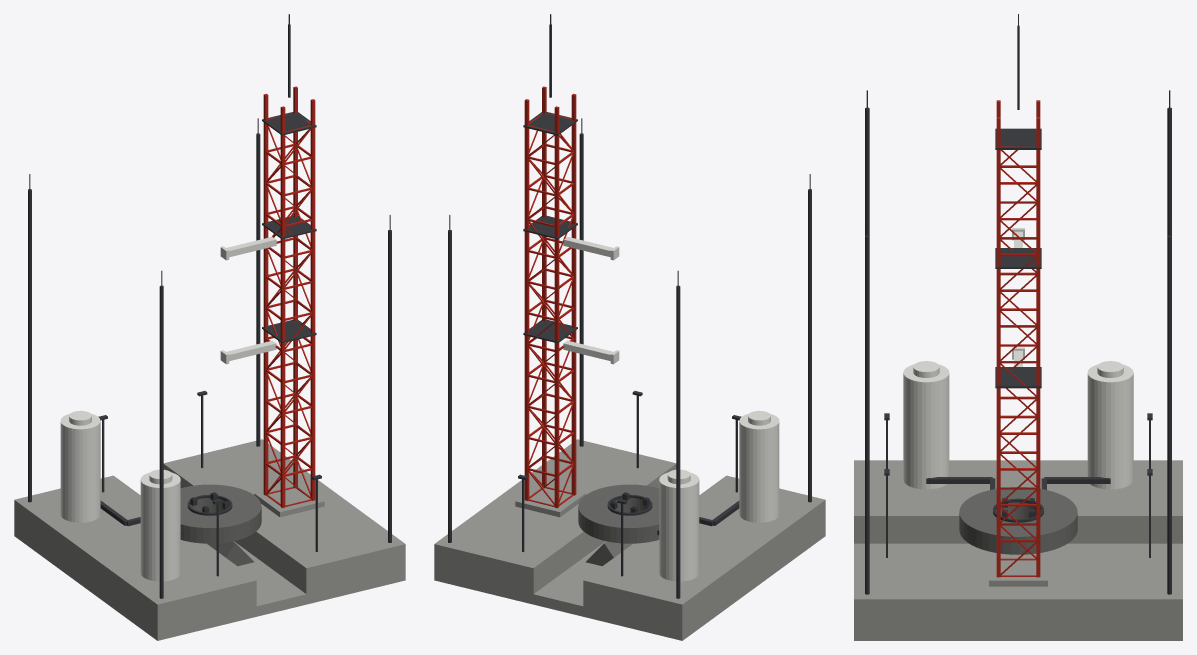
File: RocketLaunchpad.obj
3 renders of one model, left to right at view 1: azimuth 30°, elevation 25°; view 2: azimuth 150°, elevation 25°; view 3: azimuth 270°, elevation 25°, orthographic. The views are drawn at different scales.
Visible parts, largest first — view 1: Foundation_Block_Left, Foundation_Block_Right, Water_Tanks, Tower_Columns, Foundation_Floor, Lightning_Masts, Tower_Bracing, Launch_Table, Tower_Platforms, Swing_Arms, Tower_Base, Light_Poles (+1 smaller); view 2: Foundation_Block_Left, Foundation_Block_Right, Water_Tanks, Tower_Columns, Foundation_Floor, Lightning_Masts, Tower_Bracing, Launch_Table, Tower_Platforms, Swing_Arms, Tower_Base, Light_Poles (+1 smaller); view 3: Foundation_Block_Right, Foundation_Block_Left, Water_Tanks, Launch_Table, Lightning_Masts, Tower_Bracing, Tower_Columns, Foundation_Floor, Tower_Platforms, Tower_Base, Pipes, Light_Poles.
Boxes of the visible parts, x1,y1,x2,y2 form: Foundation_Block_Left: (14, 475, 256, 630); Foundation_Block_Right: (163, 439, 405, 594); Water_Tanks: (60, 410, 180, 581); Tower_Columns: (263, 86, 315, 508); Foundation_Floor: (14, 526, 405, 640); Lightning_Masts: (28, 118, 391, 598); Tower_Bracing: (266, 113, 311, 506); Launch_Table: (180, 484, 261, 543); Tower_Platforms: (262, 112, 316, 343); Swing_Arms: (220, 236, 276, 364); Tower_Base: (254, 482, 324, 517); Light_Poles: (98, 391, 321, 576); Foundation_Block_Left: (583, 475, 825, 630); Foundation_Block_Right: (434, 439, 676, 594); Water_Tanks: (659, 410, 779, 581); Tower_Columns: (524, 86, 576, 508); Foundation_Floor: (434, 526, 825, 640); Lightning_Masts: (448, 118, 811, 598); Tower_Bracing: (528, 113, 573, 506); Launch_Table: (578, 484, 659, 543); Tower_Platforms: (523, 112, 577, 343); Swing_Arms: (563, 236, 619, 364); Tower_Base: (515, 482, 585, 517); Light_Poles: (518, 391, 741, 576); Foundation_Block_Right: (854, 543, 1182, 628); Foundation_Block_Left: (854, 460, 1182, 543); Water_Tanks: (903, 361, 1133, 489); Launch_Table: (959, 487, 1077, 554); Lightning_Masts: (865, 90, 1171, 594); Tower_Bracing: (1000, 129, 1036, 576); Tower_Columns: (996, 100, 1040, 577); Foundation_Floor: (854, 629, 1182, 640); Tower_Platforms: (995, 128, 1041, 388); Tower_Base: (989, 555, 1047, 586); Pipes: (926, 477, 1110, 489); Light_Poles: (884, 413, 1152, 557).
Size of what is drawn, in the model's own units: 50 by 101 by 50.
